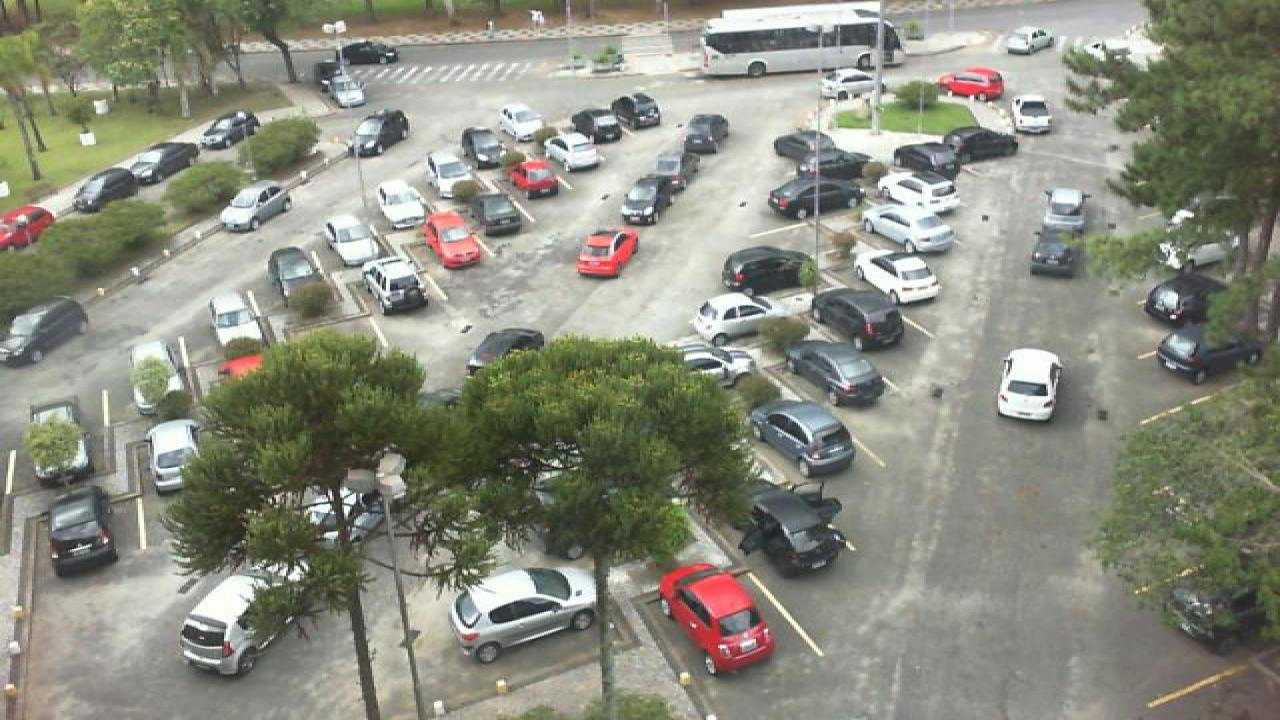Car: (658, 563, 778, 675), (450, 565, 600, 651), (178, 575, 278, 676), (740, 484, 844, 576), (748, 397, 858, 476), (784, 339, 890, 411), (44, 485, 120, 576), (1158, 320, 1258, 386), (806, 287, 906, 350), (2, 296, 88, 367), (26, 395, 92, 487), (996, 346, 1064, 422), (1140, 270, 1226, 330), (856, 250, 944, 307), (858, 205, 960, 253), (464, 326, 544, 386), (146, 417, 208, 493), (718, 245, 812, 295), (688, 293, 780, 343), (766, 172, 864, 218), (218, 180, 294, 233), (360, 256, 428, 314), (208, 290, 268, 354), (874, 172, 962, 215), (572, 226, 640, 280), (422, 210, 484, 268), (676, 343, 754, 389), (66, 168, 142, 214), (324, 214, 388, 264), (266, 245, 324, 299), (128, 140, 198, 184), (944, 125, 1022, 164), (348, 108, 408, 158), (890, 141, 964, 181), (374, 180, 430, 232), (794, 144, 872, 181), (620, 174, 676, 225), (424, 148, 482, 197), (640, 144, 698, 190), (198, 110, 260, 150), (0, 204, 56, 248), (936, 68, 1006, 102), (544, 131, 602, 172), (468, 192, 522, 236), (1040, 187, 1090, 234), (462, 124, 512, 170), (1032, 229, 1078, 278), (680, 112, 730, 156), (770, 128, 834, 161), (818, 65, 876, 100), (510, 160, 562, 199), (610, 91, 664, 128), (568, 106, 620, 143), (498, 101, 546, 141), (322, 70, 368, 109), (1012, 97, 1058, 135), (338, 40, 400, 66), (1004, 27, 1056, 55)
